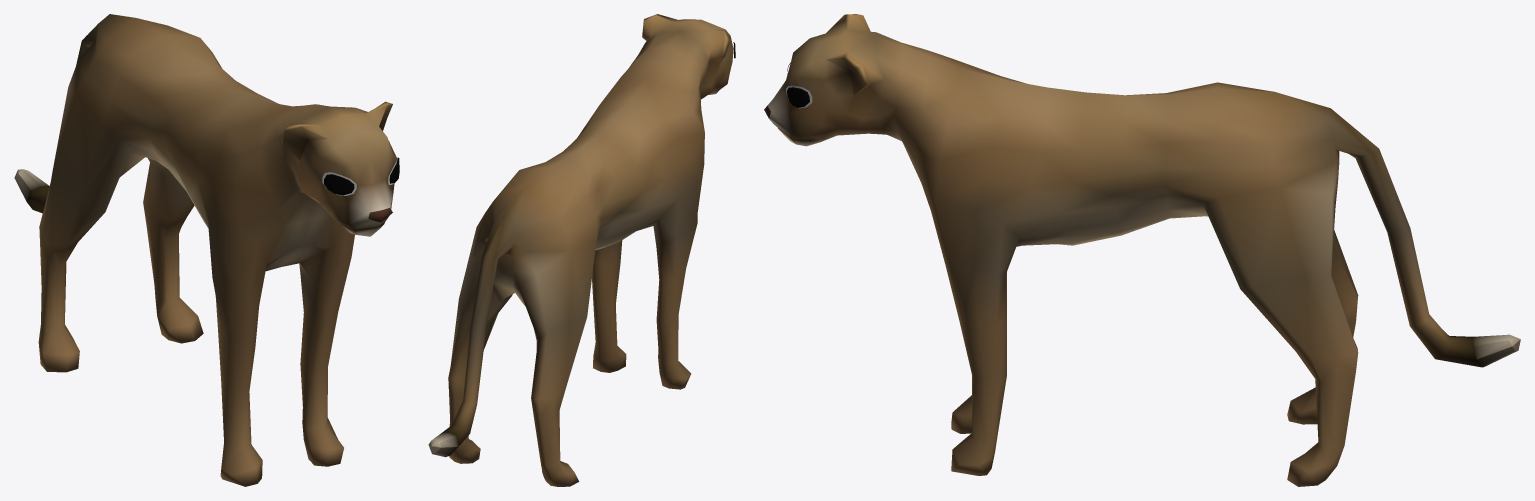
The model's file is kit-cheetah.glb.
3 views of the same model, side by side, from view 1: azimuth 30°, elevation 25°; view 2: azimuth 150°, elevation 25°; view 3: azimuth 270°, elevation 25° (orthographic). The views are drawn at different scales.
Visible parts, largest first — view 1: base; view 2: base; view 3: base.
Part boxes in pixels (x1,y1,x2,y2): base: (14, 14, 399, 486); base: (428, 14, 735, 486); base: (764, 14, 1520, 486).
Bounding box in the file's own units: 0.451 × 1.1 × 1.82.
